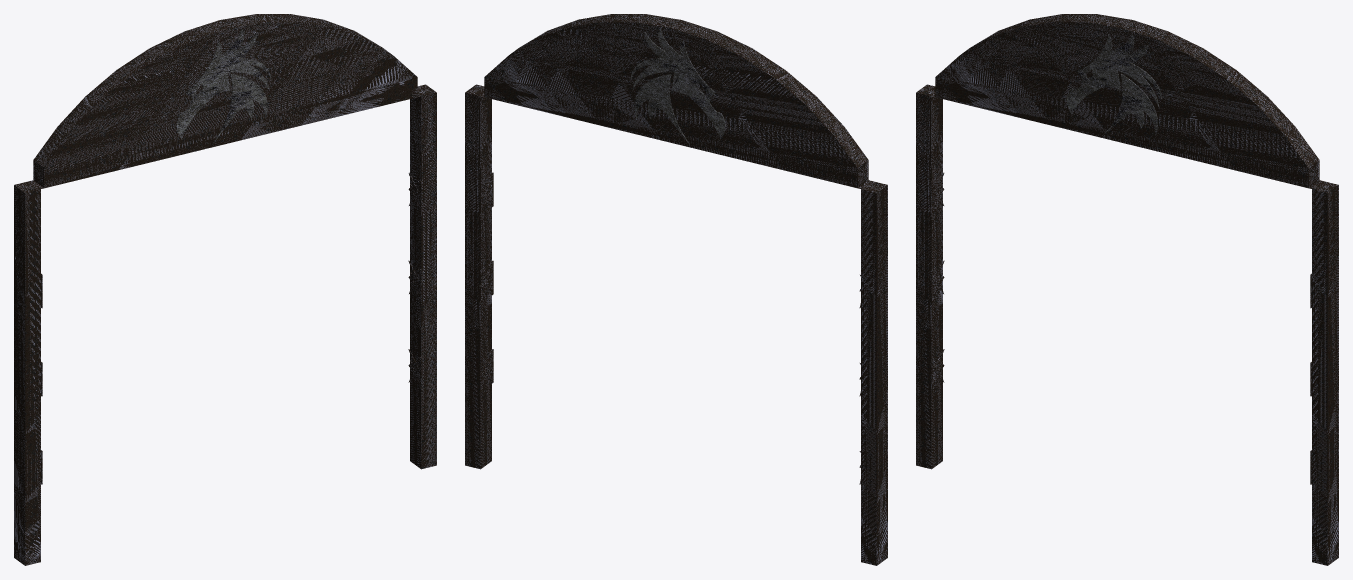
The model's file is DOOR_SINGLE_FULL_FRAME.fbx.
3 views of the same model, side by side, from view 1: azimuth 30°, elevation 25°; view 2: azimuth 150°, elevation 25°; view 3: azimuth 330°, elevation 25° (orthographic).
Visible parts, largest first — view 1: Group3, Group5, Group6; view 2: Group3, Group4, Group6; view 3: Group3, Group5, Group7.
Part boxes in pixels (box(x1,y1,x2,y2)): Group3: box(14, 14, 436, 565); Group5: box(176, 28, 271, 144); Group6: box(408, 172, 422, 391); Group3: box(465, 14, 887, 565); Group4: box(630, 28, 725, 144); Group6: box(480, 172, 493, 391); Group3: box(916, 14, 1338, 565); Group5: box(1066, 33, 1161, 135); Group7: box(930, 172, 944, 391).
Size of the model in its own units: 128 by 145 by 7.
